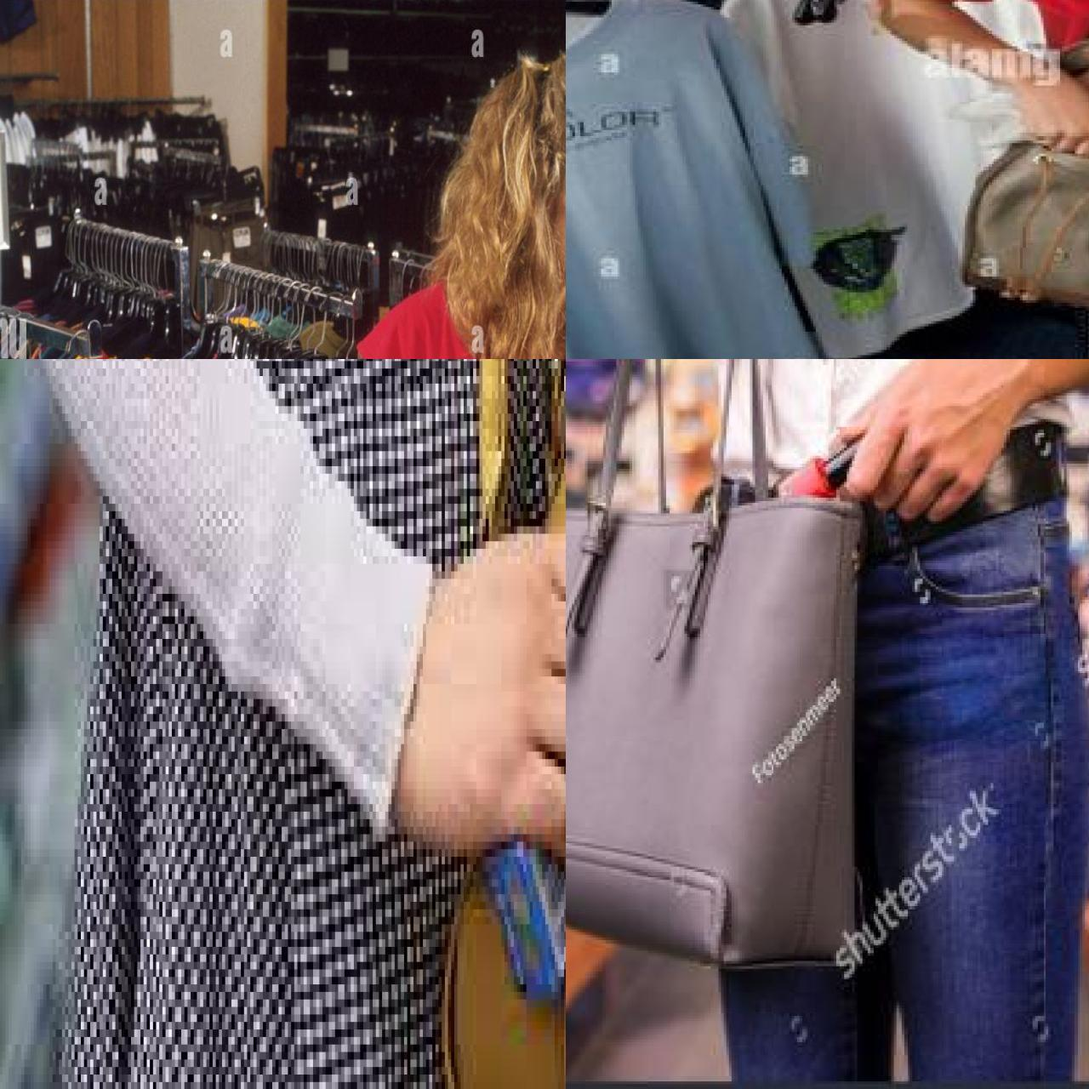shoplifting: (553, 366, 993, 1048)
